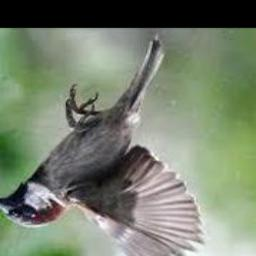Sparrow: (0, 37, 205, 256)
